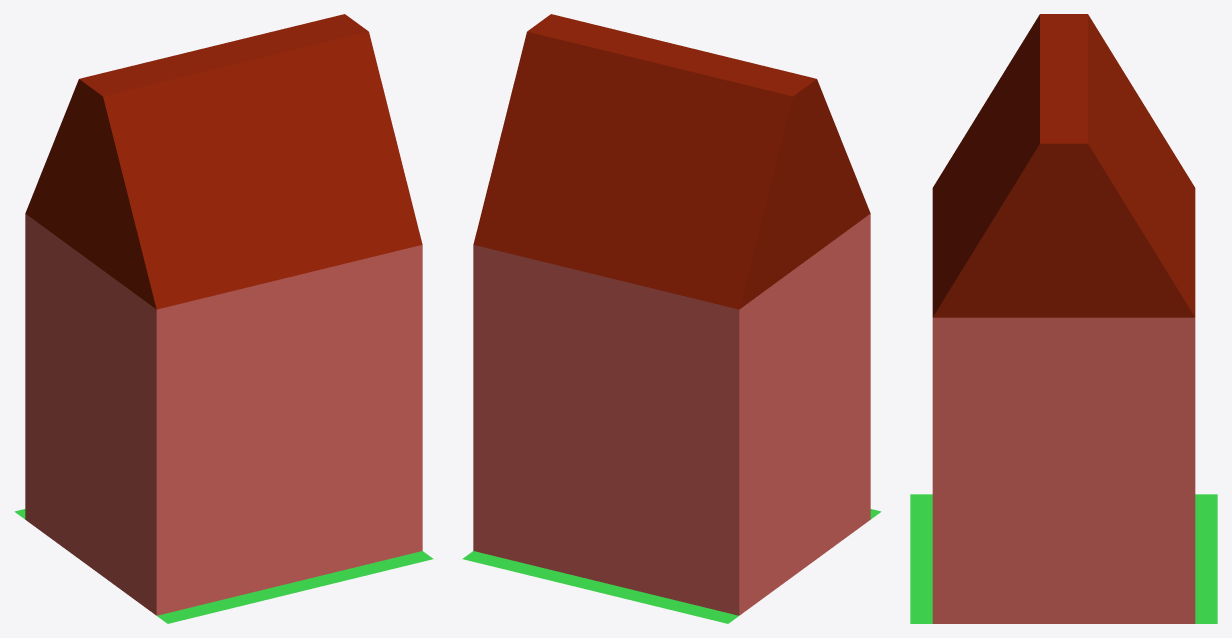
File: easy_house1x1.fbx
3 views of the same model, side by side, from view 1: azimuth 30°, elevation 25°; view 2: azimuth 150°, elevation 25°; view 3: azimuth 270°, elevation 25° (orthographic).
Visible parts, largest first — view 1: House1x1; view 2: House1x1; view 3: House1x1.
Boxes of the visible parts, <box> form: House1x1: <box>14,14,433,623</box>; House1x1: <box>462,14,881,623</box>; House1x1: <box>910,14,1217,623</box>.
Size of the model in its own units: 1000 by 1725 by 1000.
